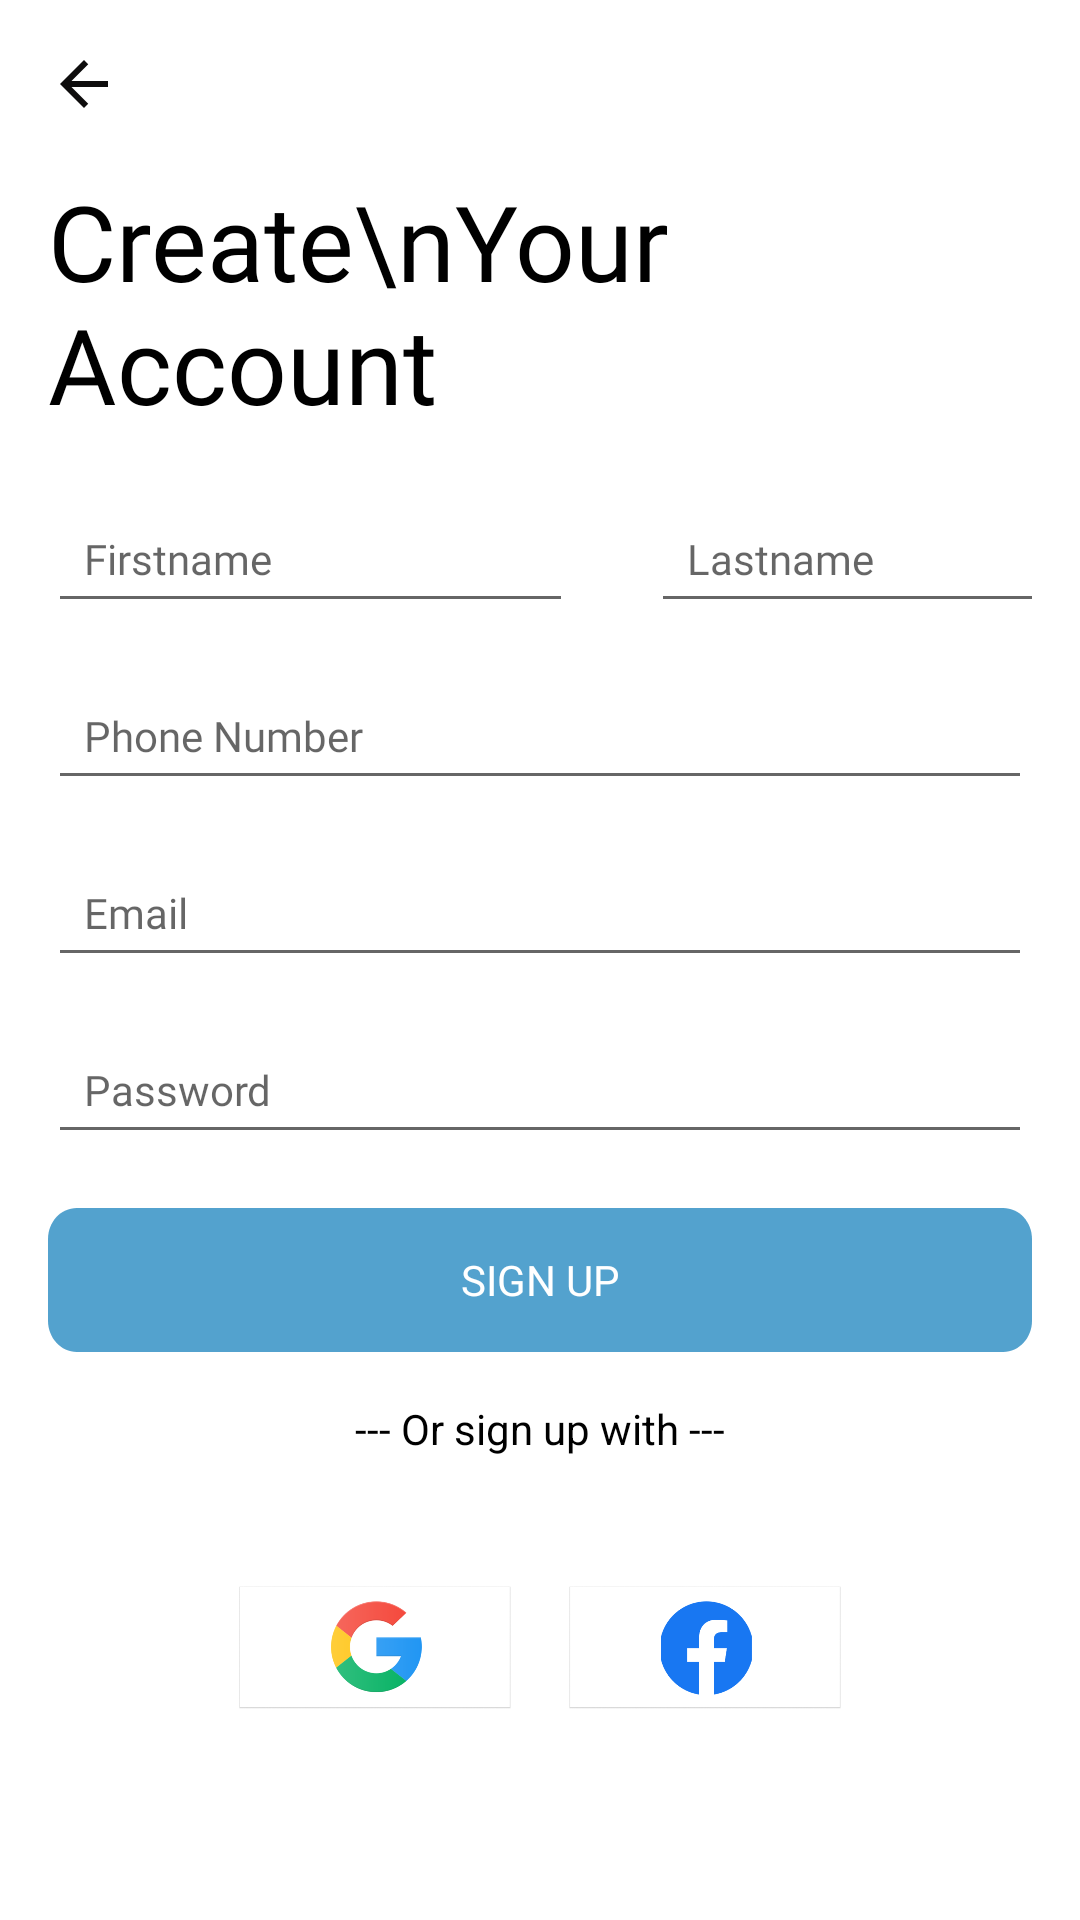

Named icons in this screenshot (1080×1920) and their bounding boxes, detection(x1, y1, x2, y2):
arrow back: detection(60, 60, 108, 108)
